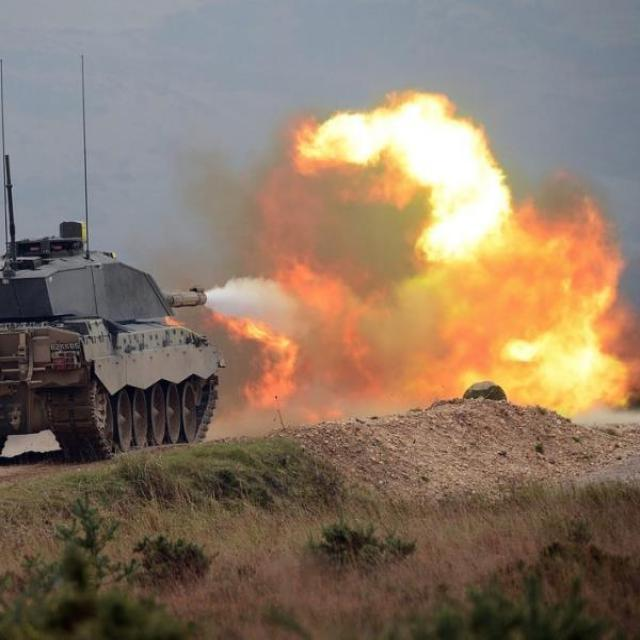MIL_MBT: (4, 220, 228, 477)
